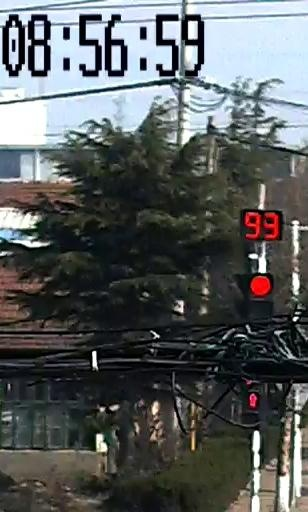red: (245, 274, 278, 302)
redpeople: (246, 391, 260, 411)
redtime: (241, 207, 281, 243)
